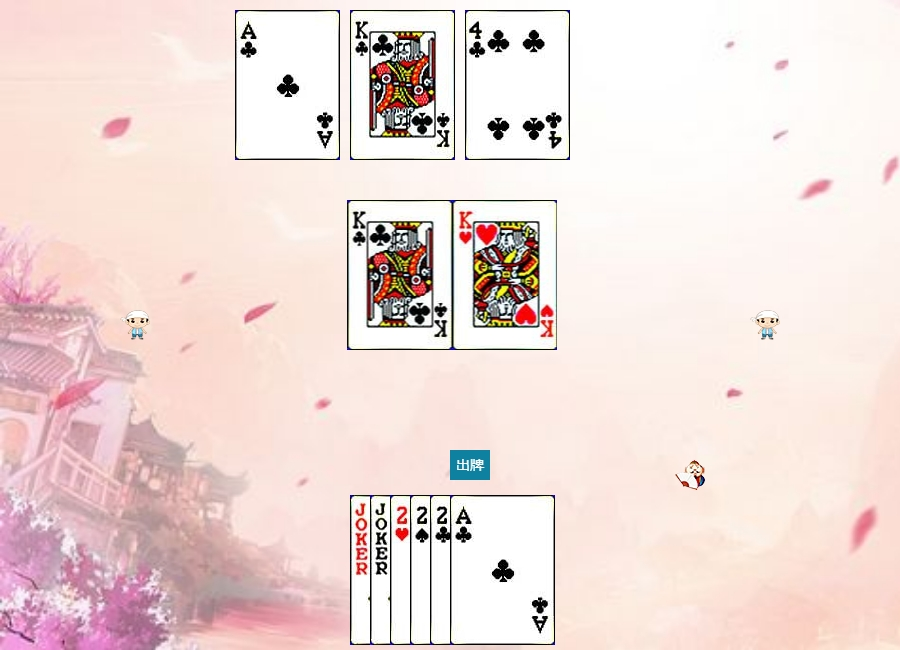13~2: (350, 10, 455, 160), (348, 200, 453, 350)
13~3: (453, 200, 558, 350)
14~2: (235, 10, 340, 160), (450, 495, 555, 645)
15~2: (430, 495, 535, 645)
15~3: (390, 495, 495, 645)
15~4: (410, 495, 515, 645)
17~3: (370, 495, 475, 645)
18~4: (350, 495, 455, 645)
4~2: (465, 10, 570, 160)
